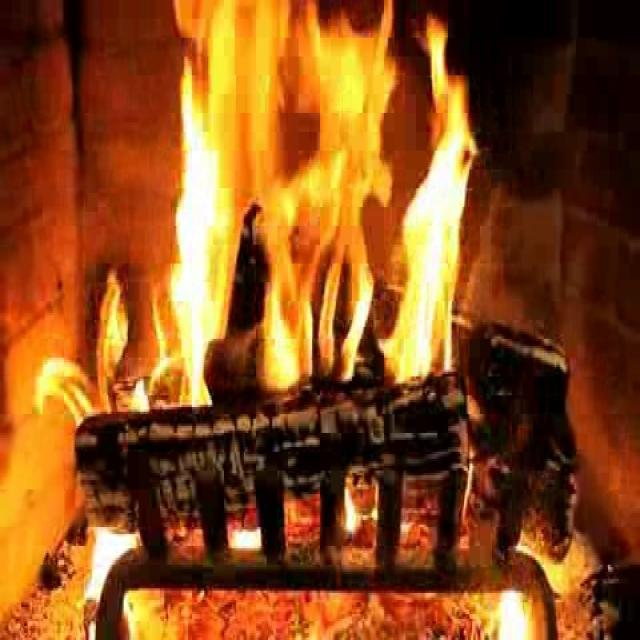Fire: (149, 8, 466, 424)
